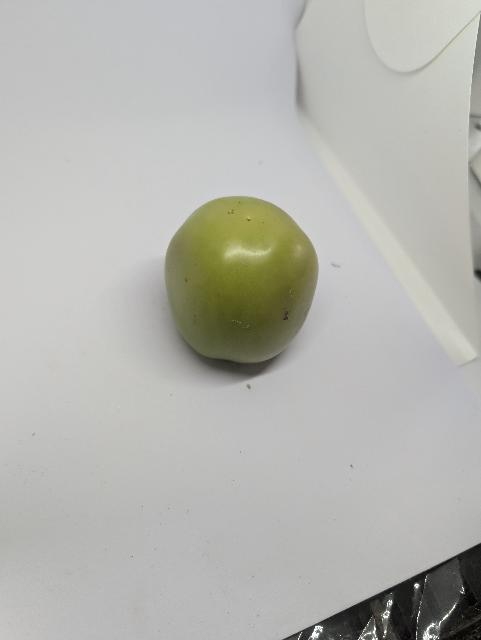green: (148, 176, 324, 380)
